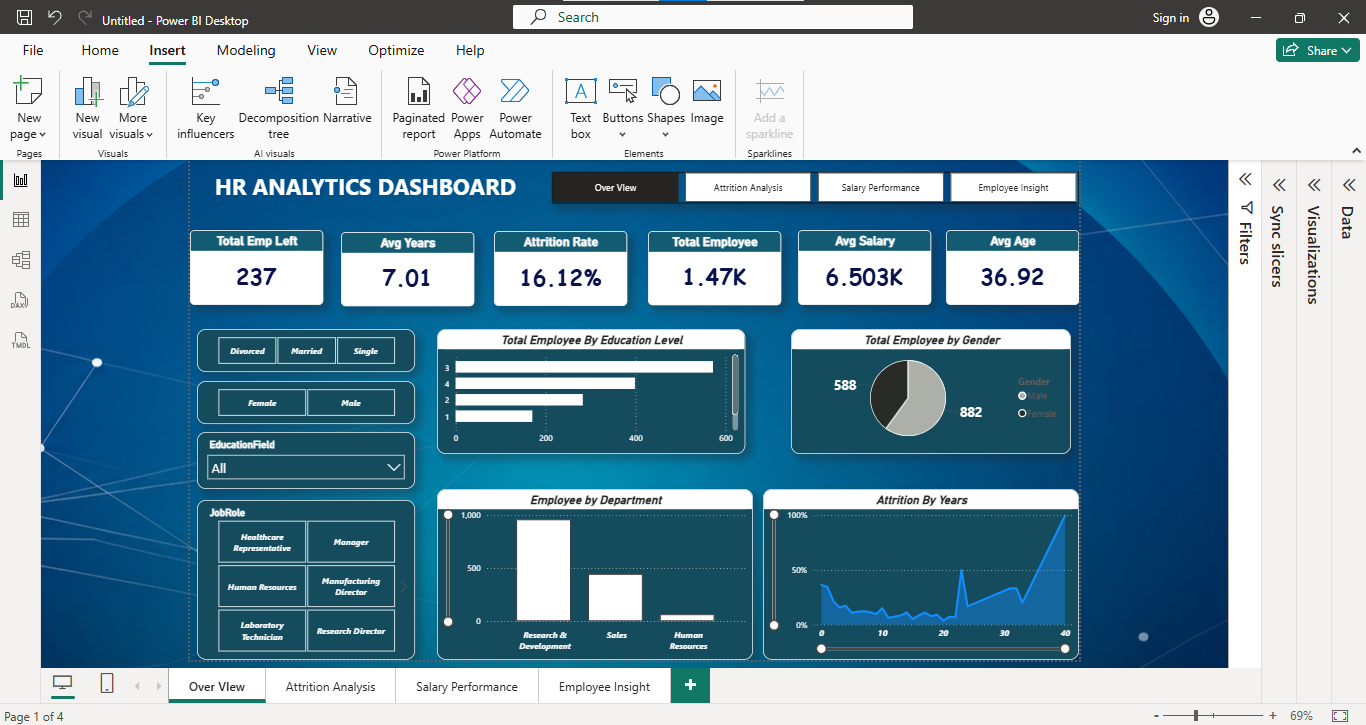

The dashboard page shown, as its layout file describes it:
{"tool":"powerbi","page":{"name":"Over VIew","canvas":[1280,720],"ordinal":0},"visuals":[{"type":"textbox","box":[10.1,10.1,485.3,59],"z":0},{"type":"cardVisual","title":"Avg Age","fields":{"Data":["Query1.Avg Age"]},"box":[1088.6,100.8,191.5,108],"z":1000},{"type":"cardVisual","title":"Attrition  Rate","fields":{"Data":["Query1.Atrration Rate"]},"box":[437.8,102.2,191.5,108],"z":2000},{"type":"cardVisual","title":"Avg Salary","fields":{"Data":["Query1.Avg Salary"]},"box":[875.5,100.8,191.5,108],"z":3000},{"type":"cardVisual","title":"Total  Employee","fields":{"Data":["Query1.Total Emp"]},"box":[659.5,102.2,191.5,106.6],"z":4000},{"type":"cardVisual","title":"Avg Years ","fields":{"Data":["Query1.Avg Years"]},"box":[217.4,103.7,191.5,106.6],"z":5000},{"type":"pieChart","title":"Total Employee by Gender","fields":{"Y":["CountNonNull(Query1.EmployeeNumber)"],"Category":["Query1.Gender"]},"box":[865.4,243.4,403.2,180],"z":6000},{"type":"cardVisual","title":"Total Emp Left","fields":{"Data":["Query1.ToTAL Employee Left"]},"box":[0,100.8,191.5,108],"z":7000},{"type":"columnChart","title":"Employee by Department ","fields":{"Y":["CountNonNull(Query1.EmployeeNumber)"],"Category":["Query1.Department"]},"box":[355.7,473.8,455,246.2],"z":8000},{"type":"slicer","title":"Total Employee by Gender","fields":{"Values":["Query1.MaritalStatus"]},"box":[10.1,243.4,313.9,61.9],"z":9000},{"type":"slicer","title":"Total Employee by Gender","fields":{"Values":["Query1.Gender"]},"box":[10.1,318.2,313.9,61.9],"z":10000},{"type":"slicer","title":"Total Employee by Gender","fields":{"Values":["Query1.EducationField"]},"box":[10.1,391.7,313.9,82.1],"z":11000},{"type":"lineChart","title":"Attrition By Years","fields":{"Y":["Query1.Atrration Rate"],"Category":["Query1.YearsAtCompany"]},"box":[825.1,473.8,455,246.2],"z":12000},{"type":"clusteredBarChart","title":"Total Employee By Education  Level","fields":{"Category":["Query1.Education"],"Y":["CountNonNull(Query1.EmployeeNumber)"]},"box":[355.7,243.4,443.5,180],"z":13000},{"type":"pageNavigator","box":[521.3,17.3,758.9,44.6],"z":14000},{"type":"slicer","title":"Total Employee by Gender","fields":{"Values":["Query1.JobRole"]},"box":[10.1,489.6,313.9,230.4],"z":15000}]}

Visuals, with their boxes on the page's 1280x720 design canvas (x1, y1, x2, y2). These are canvas units, not pixel positions in the 1366x725 screenshot, which may show the page scaled, cropped or inside an application window:
textbox: rect(10, 10, 495, 69)
"Avg Age" cardVisual: rect(1089, 101, 1280, 209)
"Attrition  Rate" cardVisual: rect(438, 102, 629, 210)
"Avg Salary" cardVisual: rect(876, 101, 1067, 209)
"Total  Employee" cardVisual: rect(660, 102, 851, 209)
"Avg Years " cardVisual: rect(217, 104, 409, 210)
"Total Employee by Gender" pieChart: rect(865, 243, 1269, 423)
"Total Emp Left" cardVisual: rect(0, 101, 192, 209)
"Employee by Department " columnChart: rect(356, 474, 811, 720)
"Total Employee by Gender" slicer: rect(10, 243, 324, 305)
"Total Employee by Gender" slicer: rect(10, 318, 324, 380)
"Total Employee by Gender" slicer: rect(10, 392, 324, 474)
"Attrition By Years" lineChart: rect(825, 474, 1280, 720)
"Total Employee By Education  Level" clusteredBarChart: rect(356, 243, 799, 423)
pageNavigator: rect(521, 17, 1280, 62)
"Total Employee by Gender" slicer: rect(10, 490, 324, 720)
